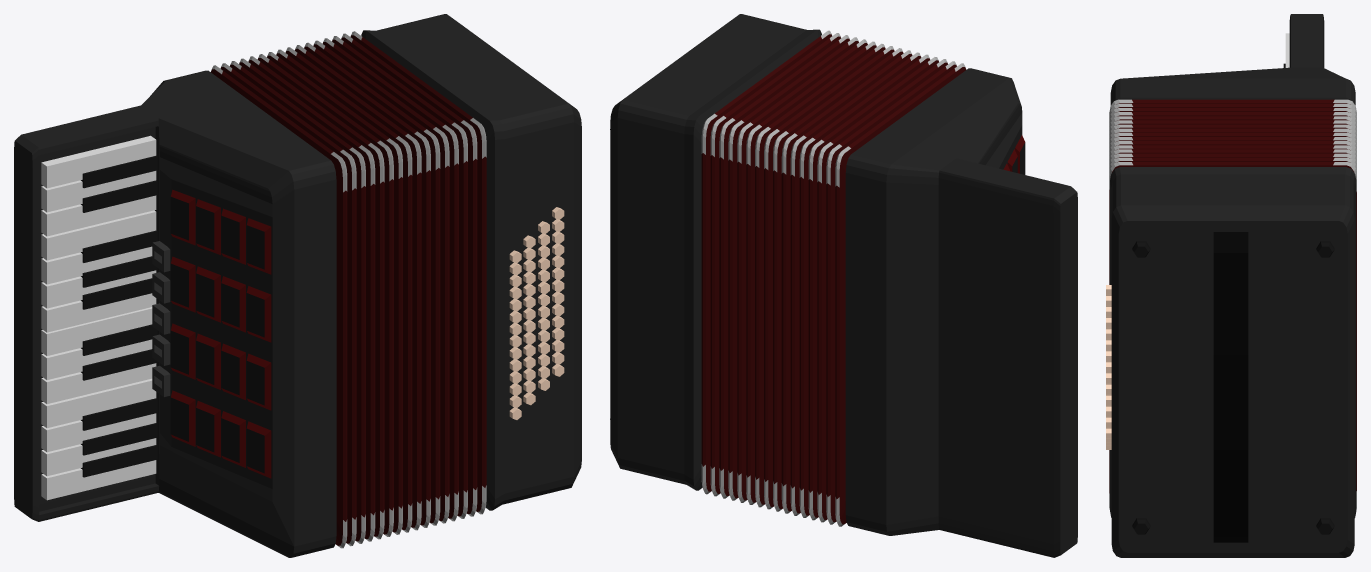
Rendered from Accordion01.fbx.
The picture shows the model from 3 angles, left to right: view 1: azimuth 30°, elevation 25°; view 2: azimuth 150°, elevation 25°; view 3: azimuth 270°, elevation 25°; orthographic projection. The views are drawn at different scales.
Visible parts, largest first — view 1: Cube.001; view 2: Cube.001; view 3: Cube.001.
Boxes of the visible parts, x1,y1,x2,y2 form: Cube.001: (14, 14, 581, 557); Cube.001: (610, 14, 1077, 557); Cube.001: (1106, 14, 1356, 557).
Size of the model in its own units: 57.17 by 43.51 by 27.57.
